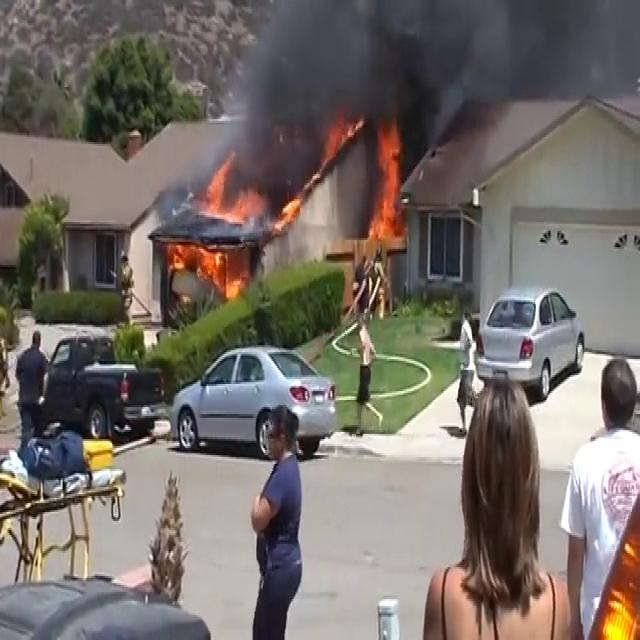Fire: (158, 235, 249, 304), (365, 118, 408, 252), (191, 154, 258, 230), (600, 583, 640, 640)
Smoke: (204, 0, 640, 156)
